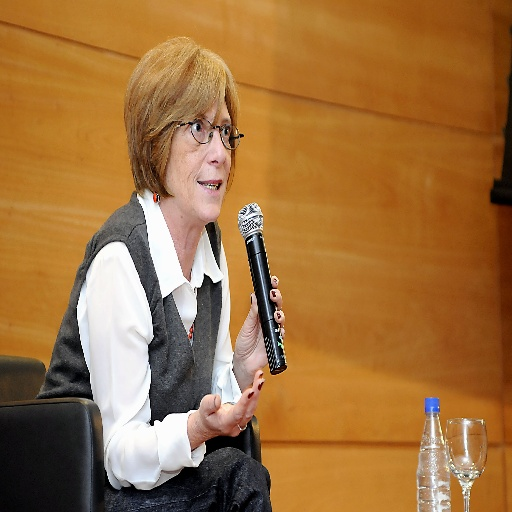hand: (231, 273, 286, 383), (180, 396, 236, 453)
